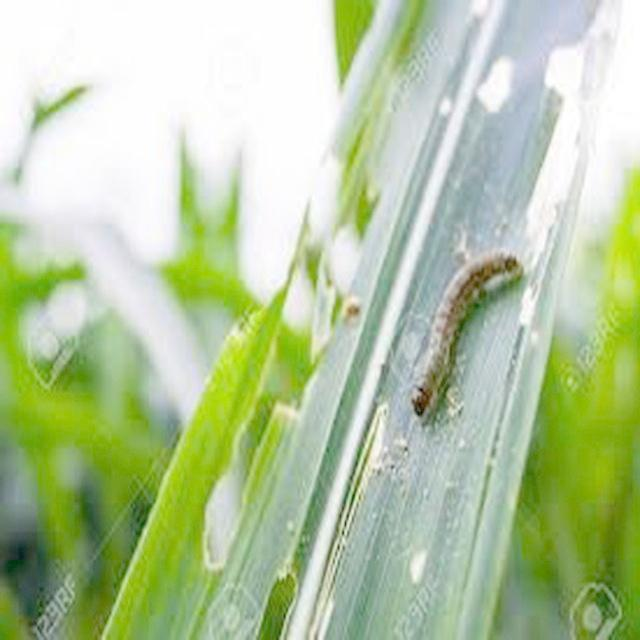gusano_cogollero: (408, 244, 528, 423)
